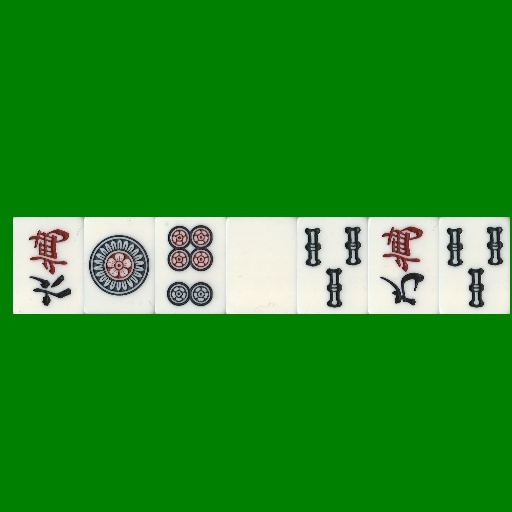1p: (84, 217, 155, 314)
3s: (297, 217, 368, 314), (439, 217, 510, 314)
6m: (13, 217, 84, 314)
6p: (155, 217, 226, 314)
9m: (368, 217, 439, 314)
white: (226, 217, 297, 314)
